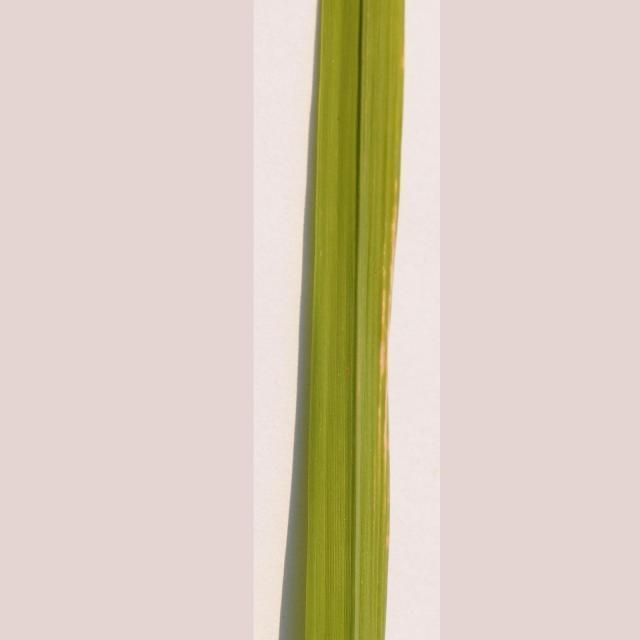Bacterial_Leaf_Blight: (337, 58, 410, 640)
